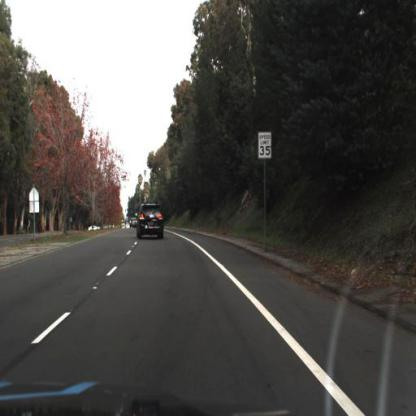car: (134, 200, 166, 243), (85, 223, 103, 238)
